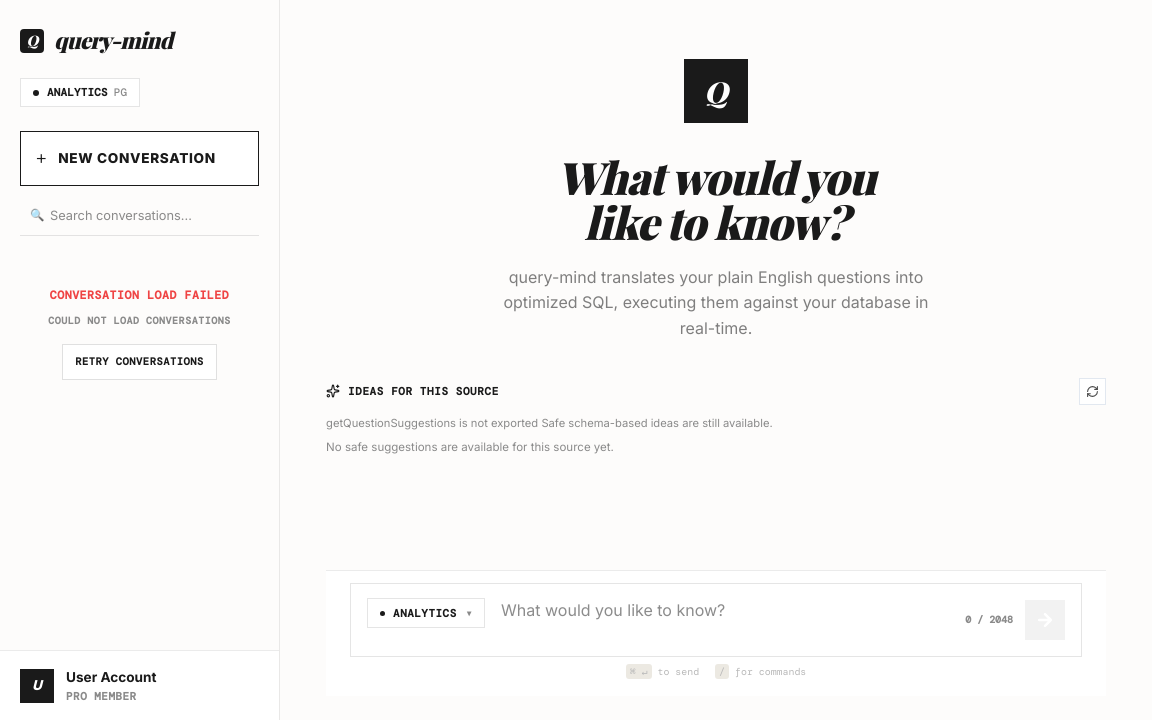
Test: chat bootstrap states › shows sidebar session failure with retry
Expected: the text "CONVERSATION LOAD FAILED" is shown, [34, 286, 245, 305]
Expected: the text "COULD NOT LOAD CONVERSATIONS" is shown, [34, 313, 245, 330]
Click the button "RETRY CONVERSATIONS". click: (139, 362)
box: [62, 344, 217, 380]
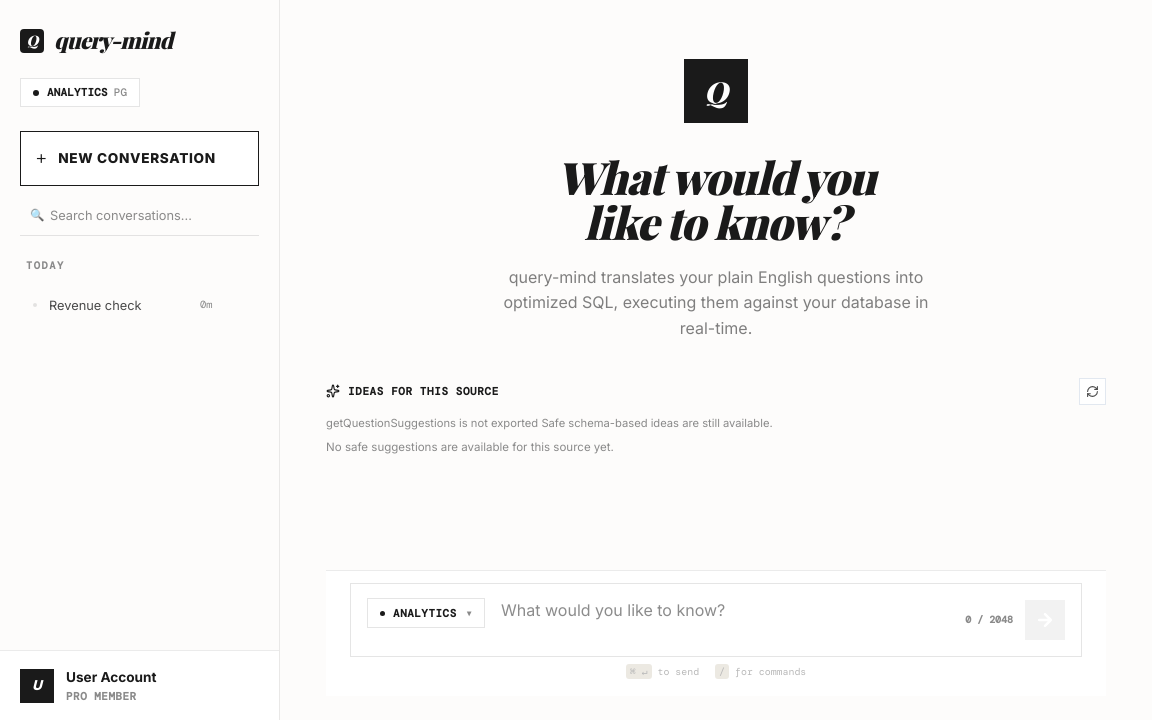
Result: the text "Revenue check" is shown at [49, 298, 142, 313]
